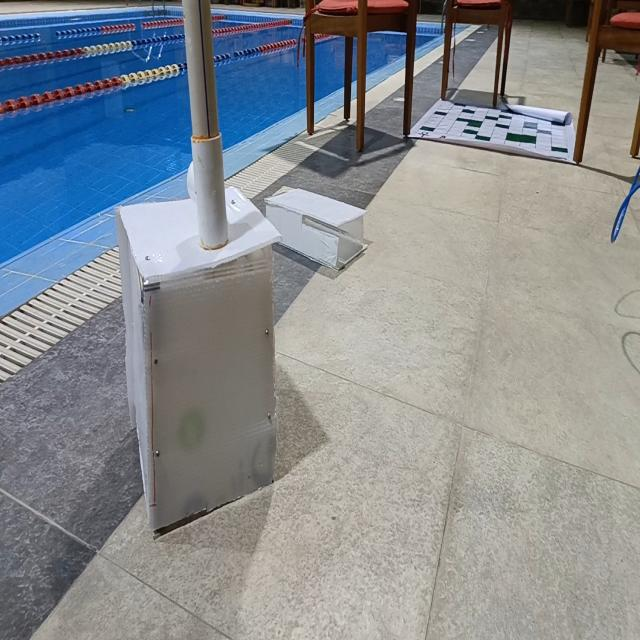Cube: (114, 182, 282, 534)
Cuboid: (264, 184, 367, 272)
